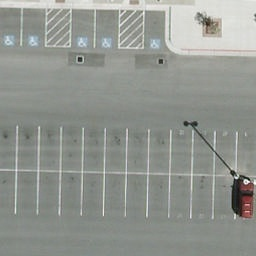car: (238, 183, 254, 220)
